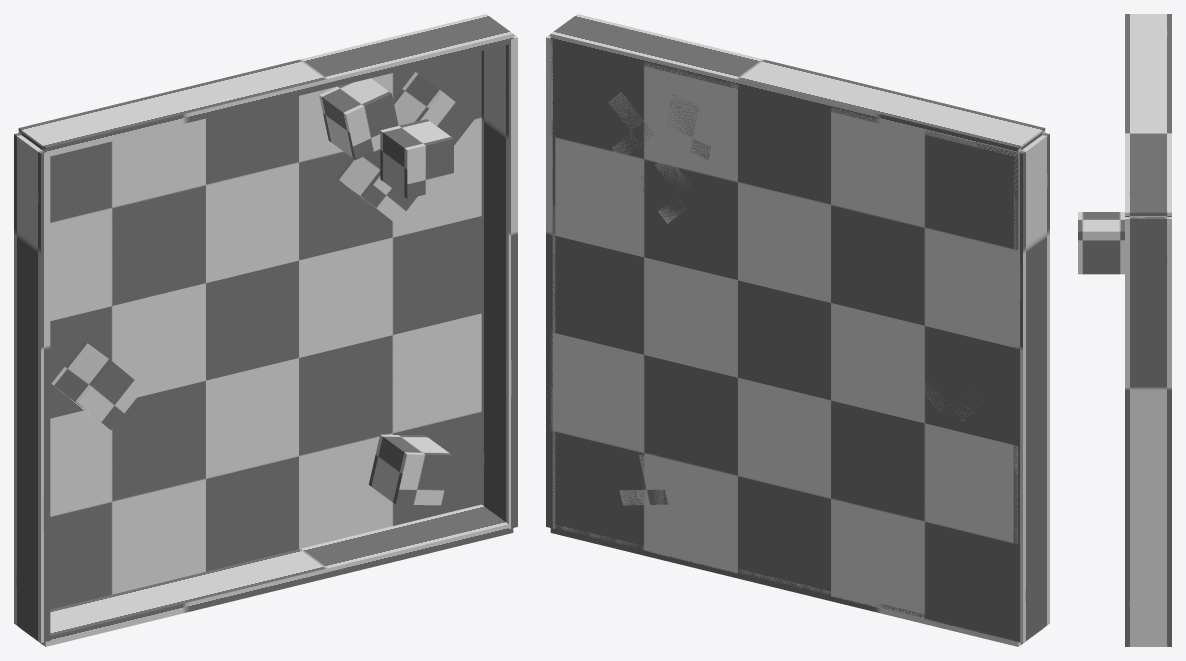
The model's file is sandbox.gltf.
3 renders of one model, left to right at view 1: azimuth 30°, elevation 25°; view 2: azimuth 150°, elevation 25°; view 3: azimuth 270°, elevation 25°, orthographic. The views are drawn at different scales.
Visible parts, largest first — view 1: Plane, Cube.003, Cube, Cube.001, Cube.002, Cube.008, Cube.009, Cube.007, Cube.010, Cube.005, Cube.004; view 2: Plane, Cube.003, Cube.001, Cube, Cube.002, Cube.009, Cube.005, Cube.007, Cube.004; view 3: Cube, Cube.001, Cube.008.
Part boxes in pixels (x1,y1,x2,y2): Plane: [50, 51, 481, 609]; Cube.003: [14, 133, 50, 642]; Cube: [481, 34, 517, 528]; Cube.001: [18, 14, 513, 157]; Cube.002: [19, 504, 513, 646]; Cube.008: [380, 119, 453, 198]; Cube.009: [368, 434, 452, 505]; Cube.007: [319, 78, 398, 160]; Cube.010: [51, 341, 144, 429]; Cube.005: [393, 72, 475, 145]; Cube.004: [336, 149, 417, 223]; Plane: [550, 39, 1018, 641]; Cube.003: [1013, 133, 1049, 642]; Cube.001: [550, 14, 1045, 157]; Cube: [546, 34, 555, 528]; Cube.002: [550, 524, 1044, 646]; Cube.009: [611, 454, 668, 505]; Cube.005: [588, 92, 652, 160]; Cube.007: [663, 95, 716, 159]; Cube.004: [640, 155, 695, 223]; Cube: [1125, 217, 1171, 644]; Cube.001: [1125, 14, 1171, 216]; Cube.008: [1078, 212, 1124, 274].
Bounding box in the file's own units: 20.4 × 20.4 × 4.
1 material, 1 textured.
